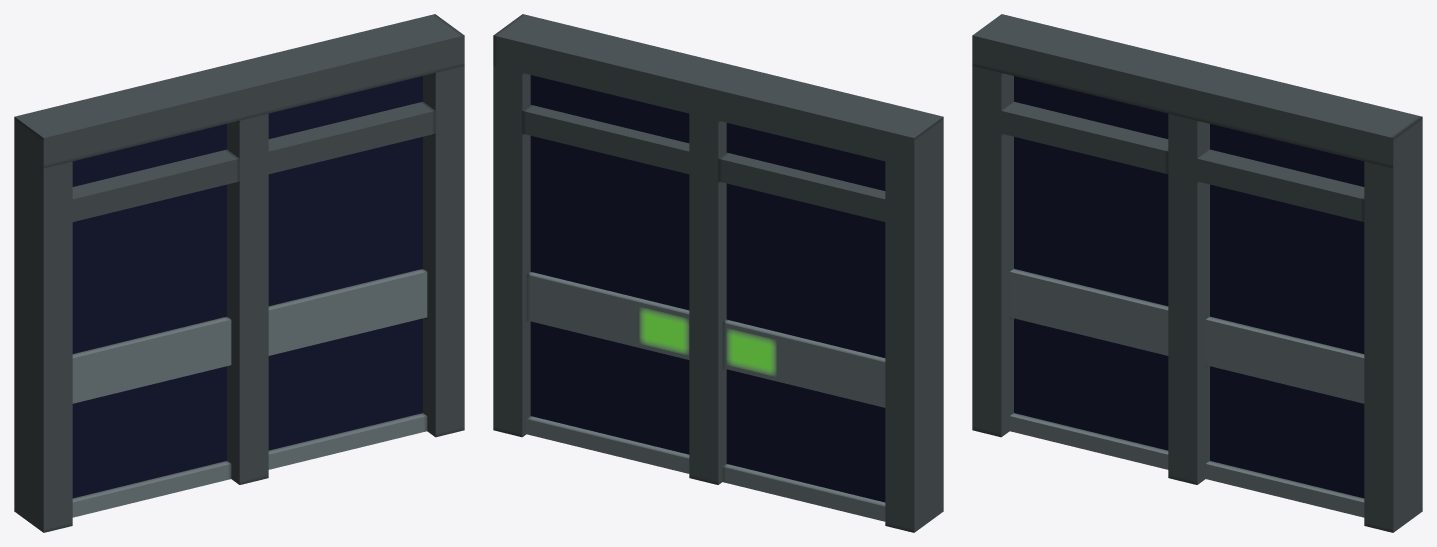
File: dzw_arcade_2_dzw.dae
The picture shows the model from 3 angles, left to right: view 1: azimuth 30°, elevation 25°; view 2: azimuth 150°, elevation 25°; view 3: azimuth 330°, elevation 25°; orthographic projection.
Parts seen in each view (by area): view 1: Content; view 2: Content; view 3: Content.
Boxes of the visible parts, left/top/right/bottom form: Content: left=14, top=14, right=464, bottom=532; Content: left=493, top=14, right=943, bottom=532; Content: left=972, top=14, right=1422, bottom=532.
Bounding box in the file's own units: 58 × 52 × 7.
Materials: 1 (1 with a texture image).
